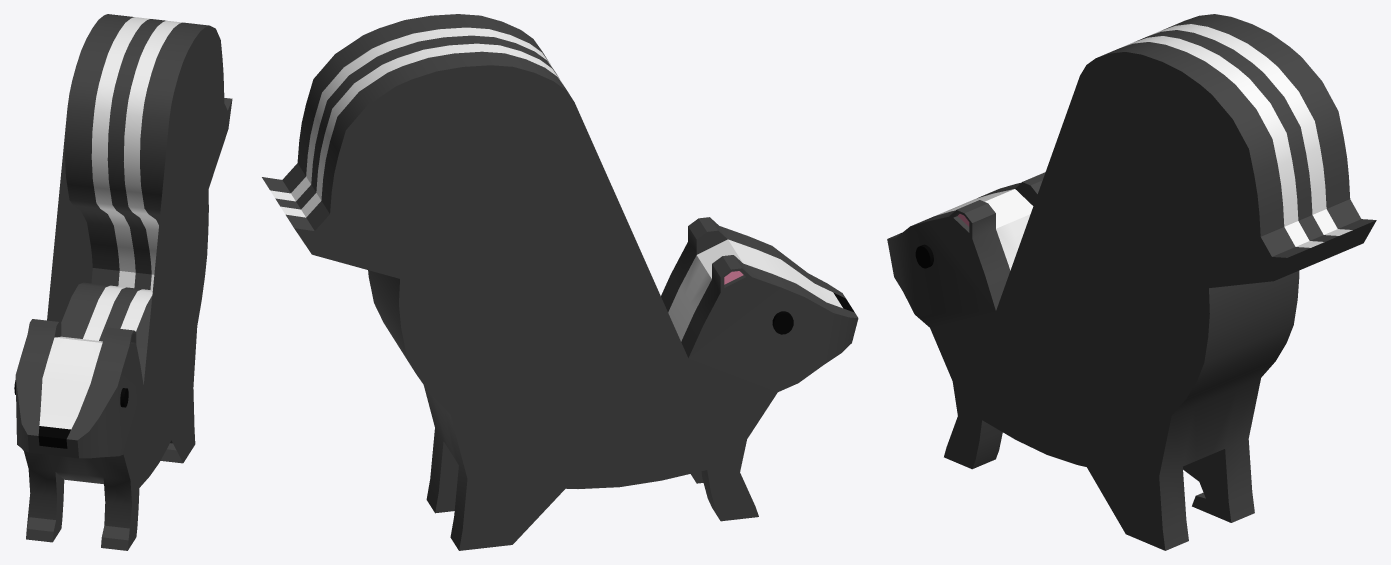
Rendered from skunk.fbx.
3 views of the same model, side by side, from view 1: azimuth 30°, elevation 25°; view 2: azimuth 150°, elevation 25°; view 3: azimuth 270°, elevation 25° (orthographic). The views are drawn at different scales.
Visible parts, largest first — view 1: Plane.146; view 2: Plane.146; view 3: Plane.146.
Part boxes in pixels (x1,y1,x2,y2): Plane.146: (15, 14, 232, 550); Plane.146: (262, 14, 858, 550); Plane.146: (887, 14, 1376, 550).
Size of the model in its own units: 202 by 222 by 202.
1 material, 1 textured.
